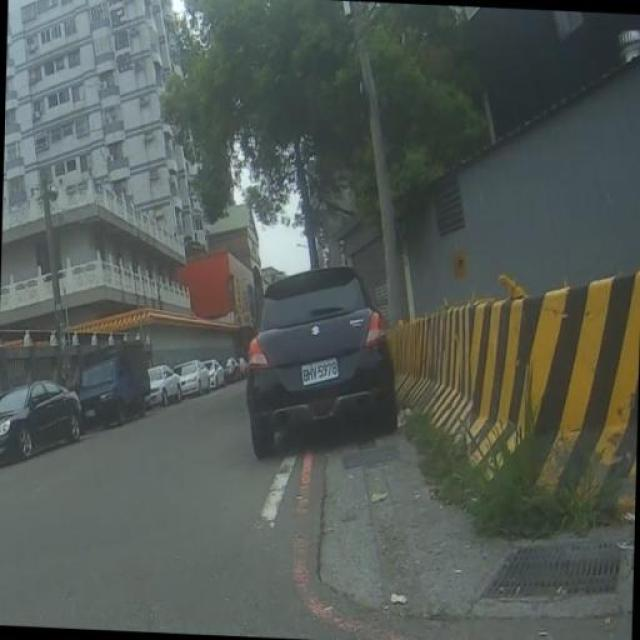Legalparking: (212, 255, 428, 462)
